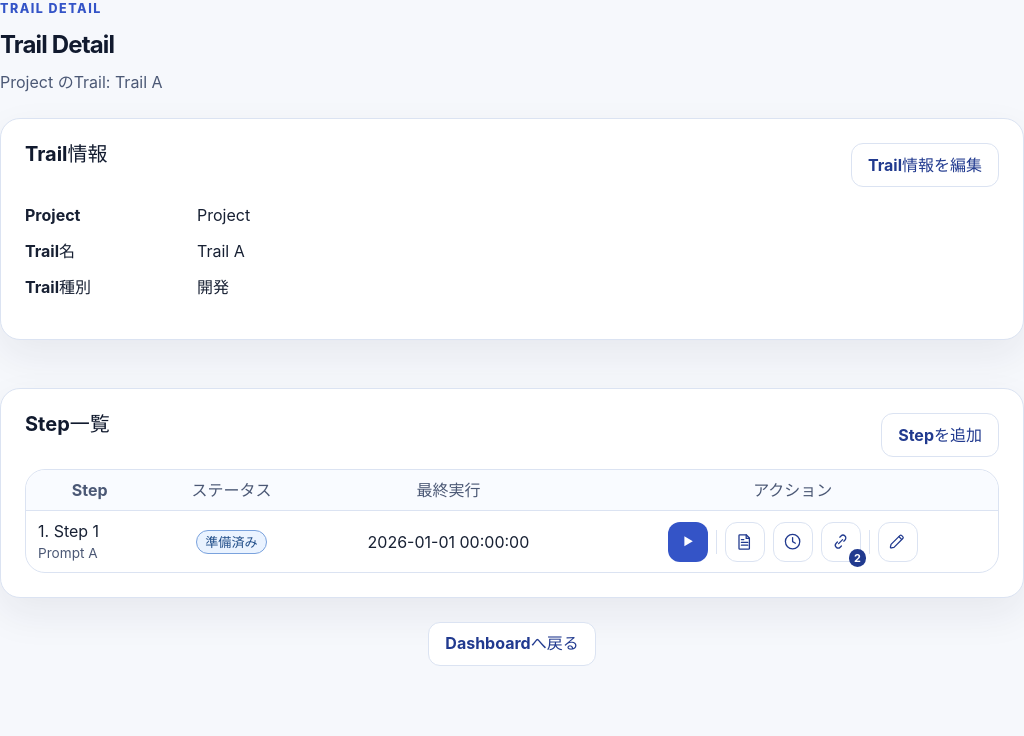
Test case: TrailDetailPage › prevents another Link deletion while a deletion is pending
Click the button named "関連リンクを表示". click: point(841, 542)
box: [821, 522, 861, 562]
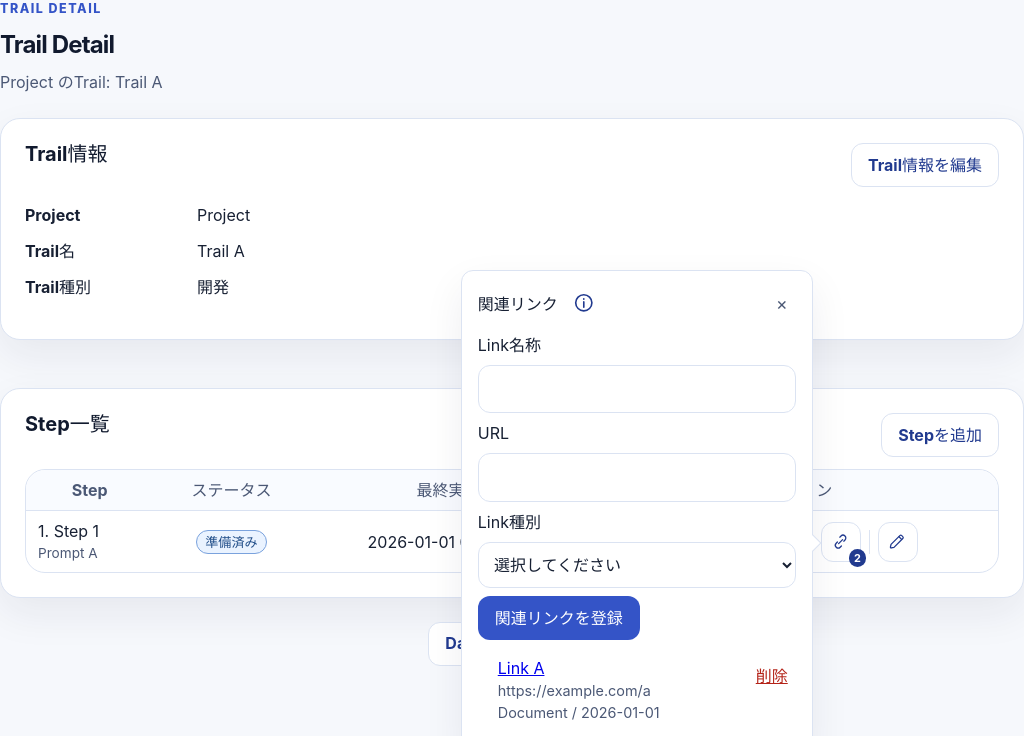
Click the button with aria-label "Link Aを削除". click: point(772, 676)
box: [748, 656, 796, 696]
(page scrolled)
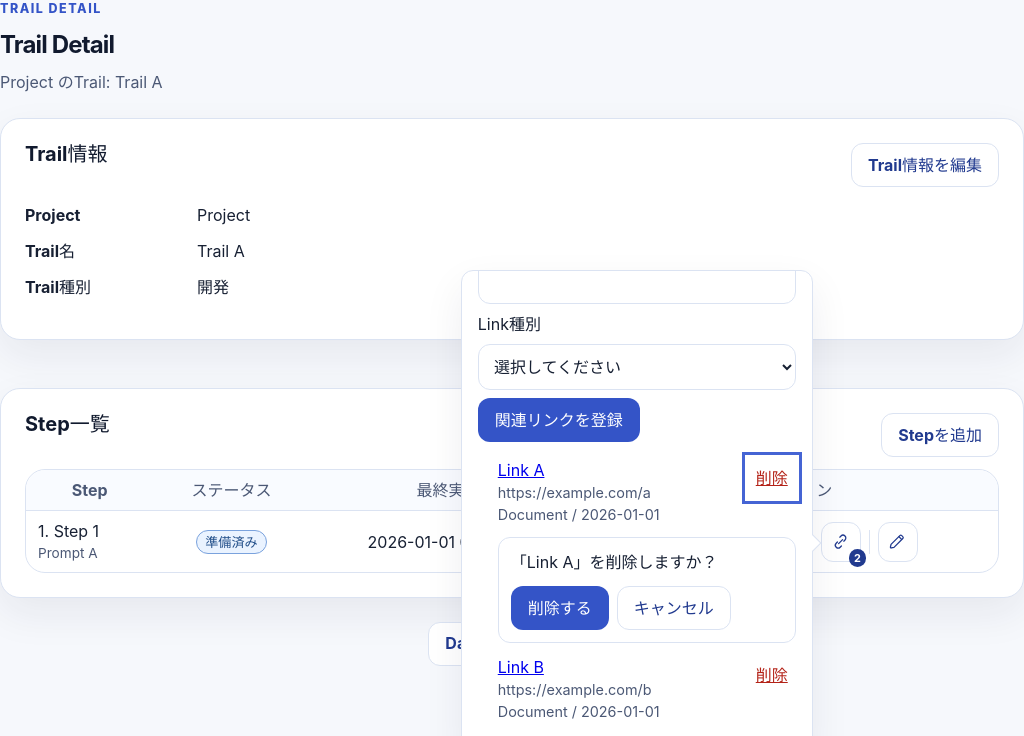
Click the button "削除する". click: point(560, 608)
box: [511, 586, 609, 630]
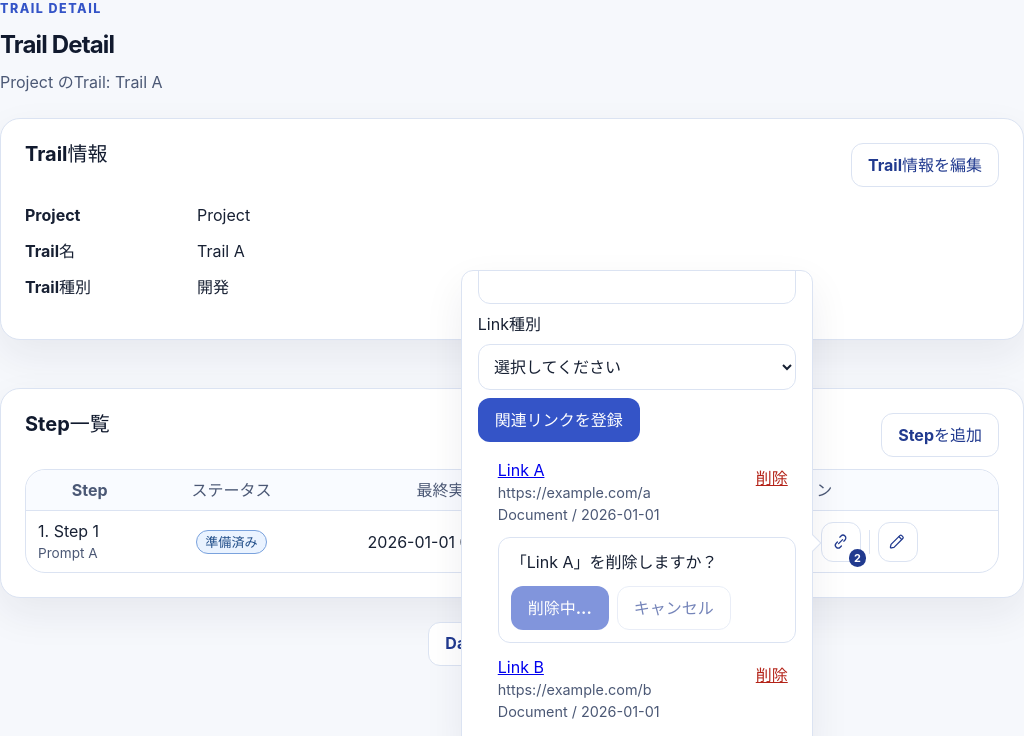
Expected: the button with aria-label "Link Aを削除" is disabled, [748, 458, 796, 498]
Click the button with aria-label "Link Bを削除". click: point(772, 675)
box: [748, 655, 796, 695]
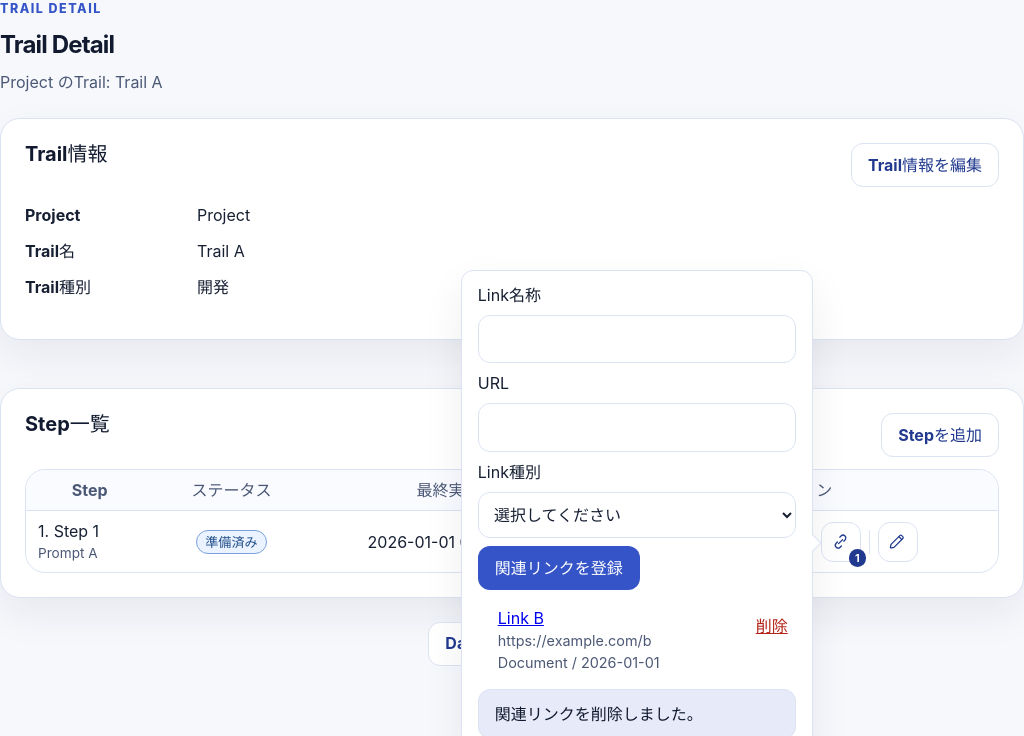
Result: the link "Link B" is shown at [498, 608, 544, 628]
Result: the link "Link A" is gone
Result: the button with aria-label "Link Bを削除" is enabled at [748, 606, 796, 646]
